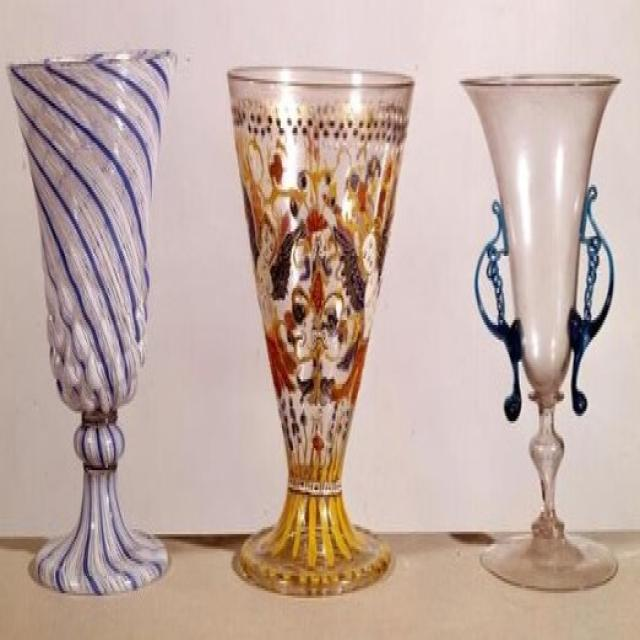electronic: (6, 42, 624, 607)
